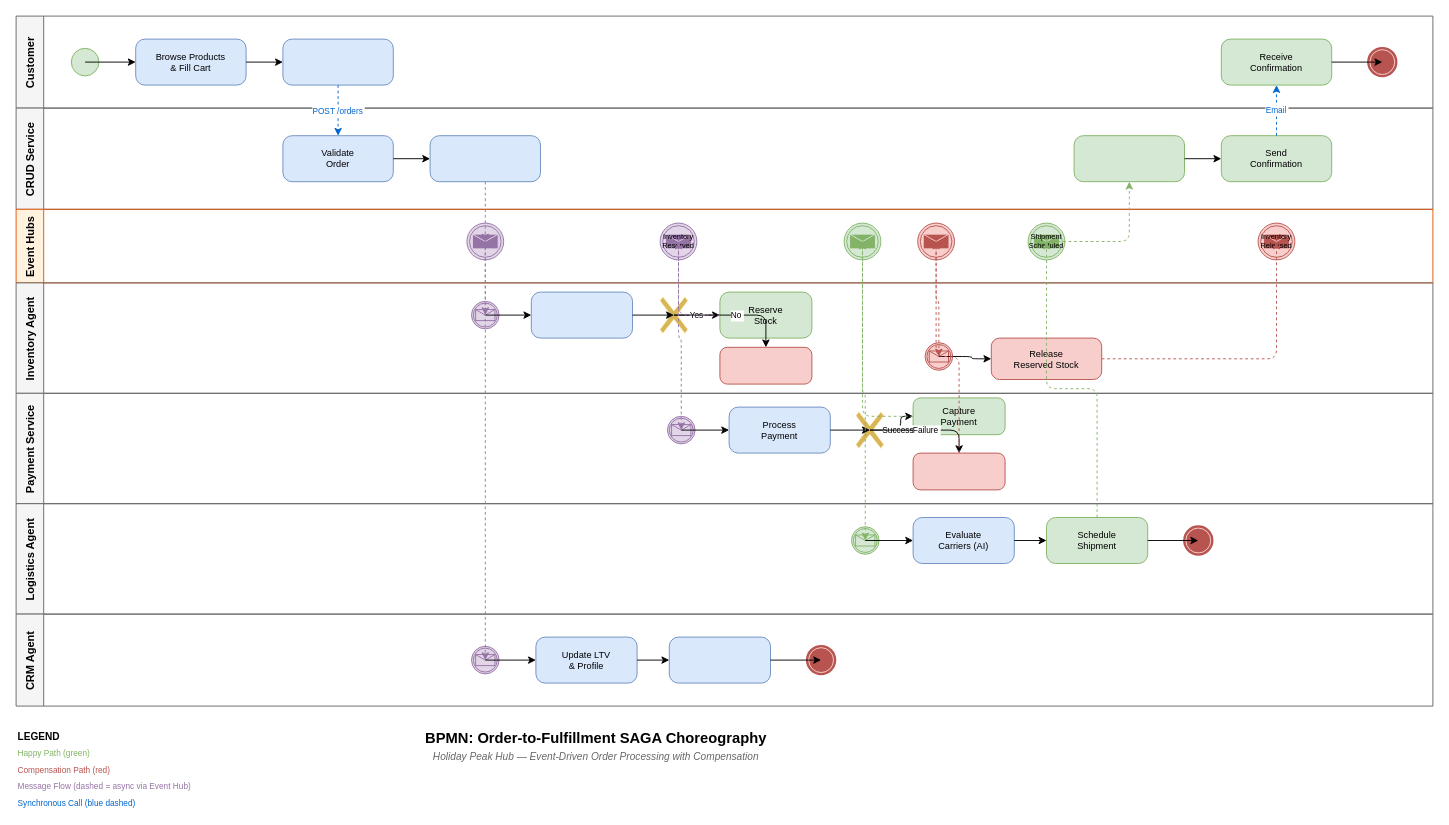
Image size: 1449x825. Some labels were removed from this diagram. The shapes that lost their labels are listed below. From the top down, each one's centre as x and y in pixels, then its label:
the point at 337,61: Submit Order
the point at 484,158: Create Order Record
the point at 1128,158: Update Status to Processing
the point at 485,241: Order Created
the point at 862,241: Payment Processed
the point at 935,241: Payment Failed
the point at 581,314: Check Stock Availability
the point at 765,365: Reject: No Stock
the point at 958,471: Log Payment Failure
the point at 719,659: Recalculate Segment
